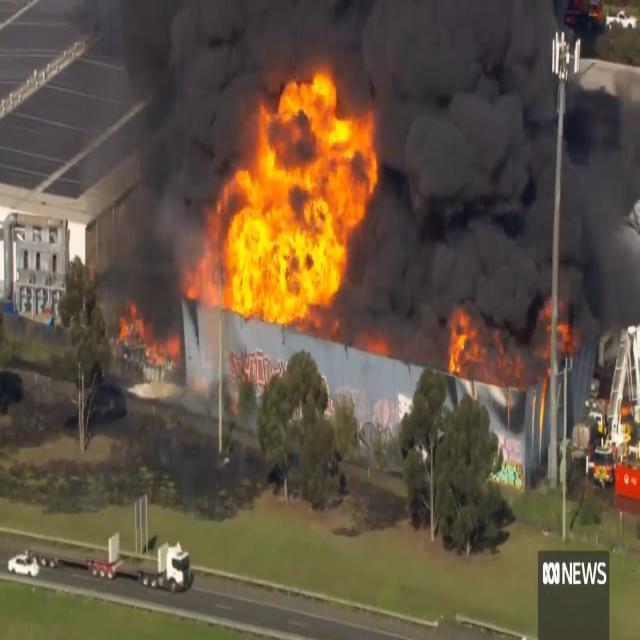fire: (206, 60, 360, 321), (444, 312, 476, 372)
